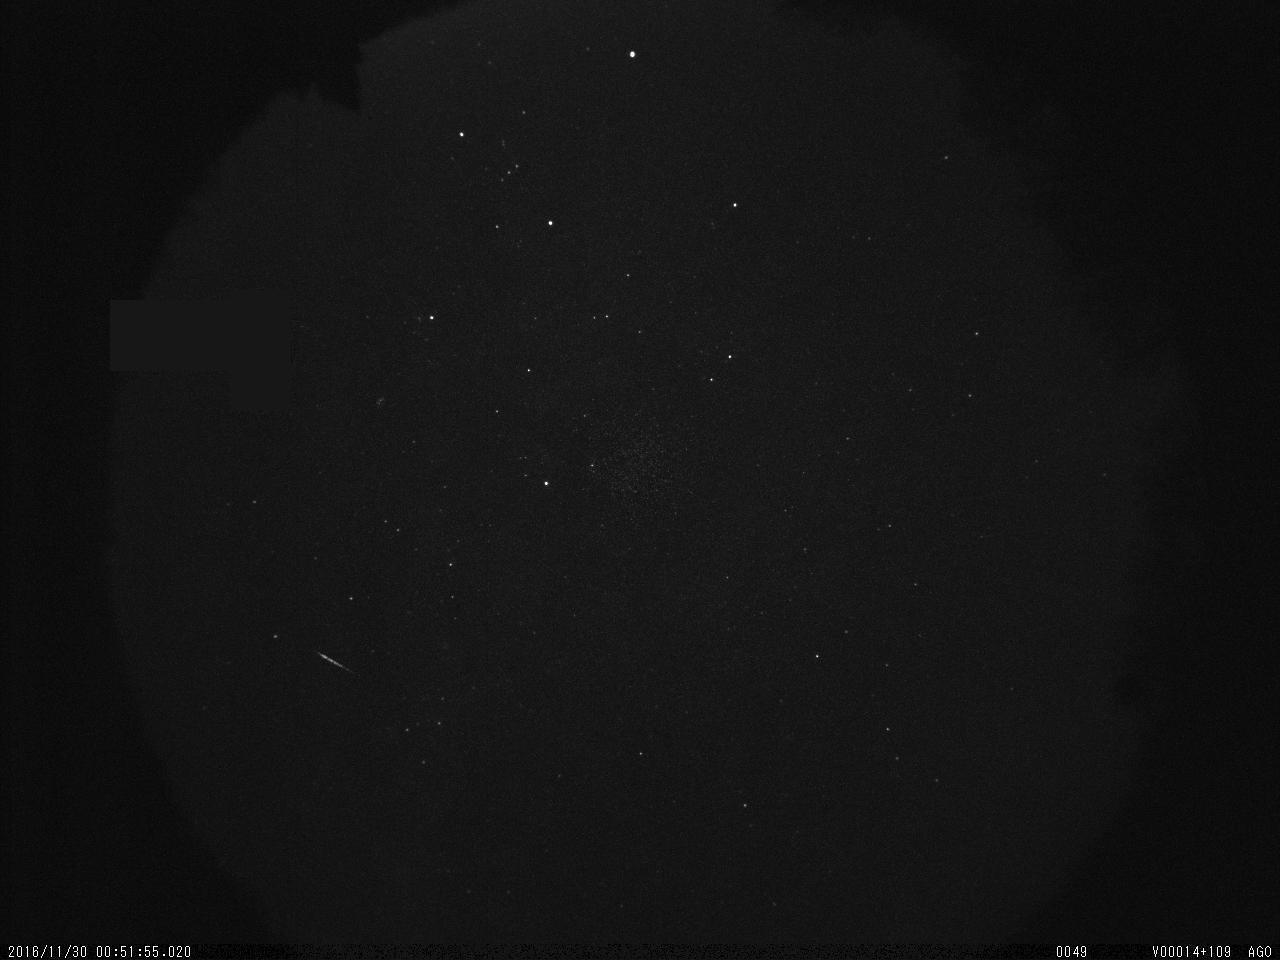Meteor: (316, 648, 355, 672)
